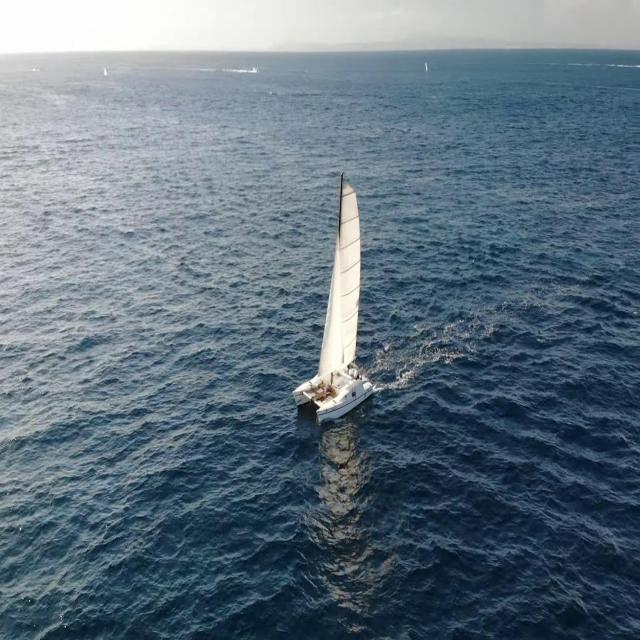sailboat: (286, 168, 376, 428)
